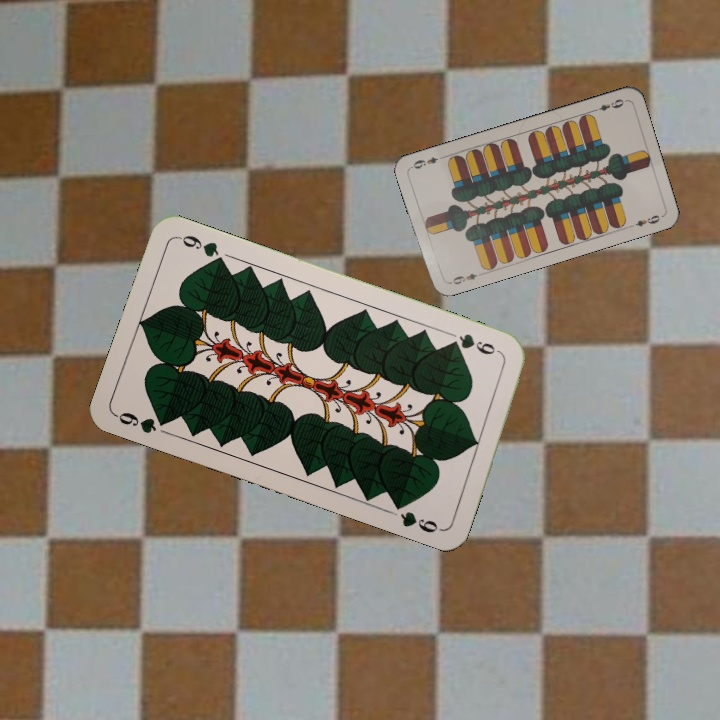E9: (444, 268, 484, 287), (588, 95, 626, 114)
G9: (445, 329, 505, 358), (112, 408, 173, 436)
